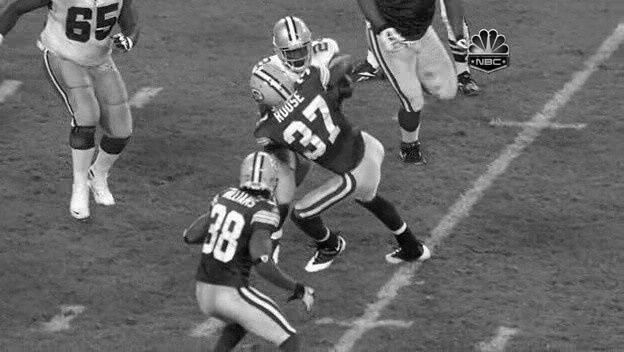person: (277, 22, 315, 70), (276, 22, 314, 70), (278, 22, 316, 70), (277, 21, 315, 69), (277, 23, 315, 71)
target_negative: (106, 35, 378, 312), (261, 193, 318, 296), (497, 139, 582, 194), (393, 321, 503, 330), (467, 335, 544, 338), (528, 164, 551, 170)
